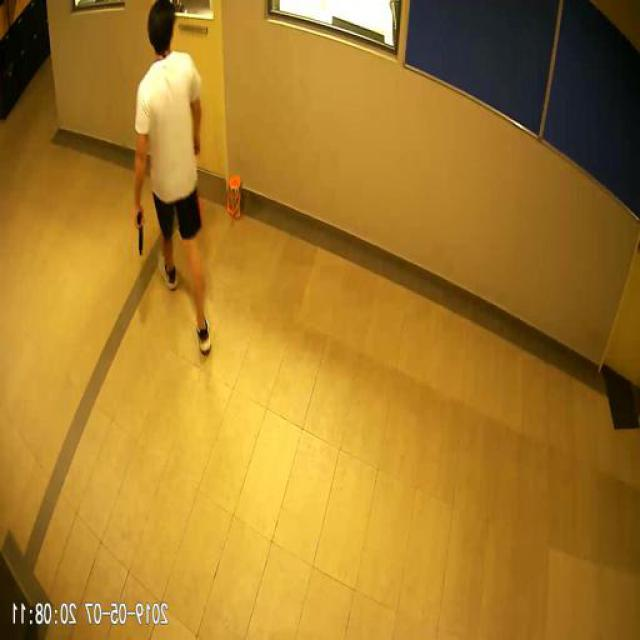Gun: (135, 199, 149, 255)
